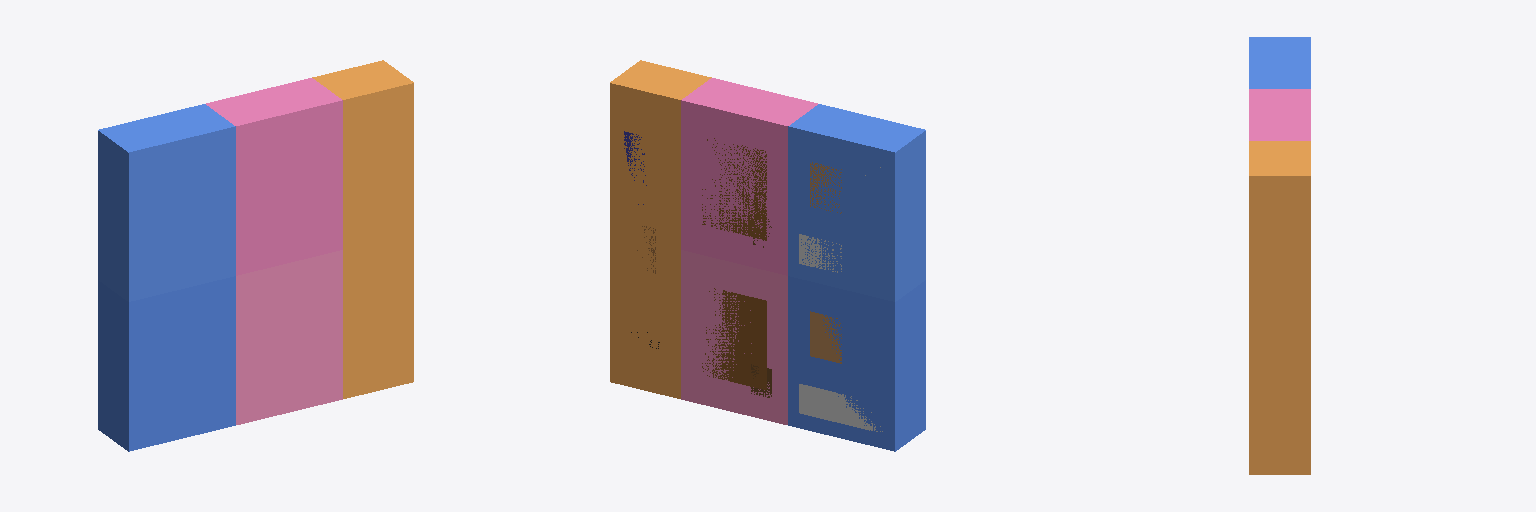
The picture shows the model from 3 angles: view 1: azimuth 30°, elevation 25°; view 2: azimuth 150°, elevation 25°; view 3: azimuth 270°, elevation 25°; orthographic projection.
Parts seen in each view (by area): view 1: 1, 4, 0, 3, 2; view 2: 4, 1, 0, 3, 2, furniture_6_bed, furniture_8_bed, furniture_0_kitchen_counter, furniture_2_dining_table, furniture_3_kitchen_counter; view 3: 4, 1, 3.
Part boxes in pixels (x1,y1,x2,y2): 1: (98, 104, 235, 301); 4: (312, 60, 413, 398); 0: (98, 276, 235, 451); 3: (206, 78, 342, 275); 2: (236, 250, 342, 424); 4: (610, 60, 711, 398); 1: (788, 104, 925, 301); 0: (788, 276, 925, 451); 3: (681, 78, 817, 275); 2: (681, 250, 787, 424); furniture_6_bed: (702, 288, 766, 389); furniture_8_bed: (702, 138, 766, 240); furniture_0_kitchen_counter: (799, 384, 882, 431); furniture_2_dining_table: (810, 311, 841, 363); furniture_3_kitchen_counter: (799, 234, 841, 272); 4: (1249, 141, 1310, 474); 1: (1249, 37, 1310, 88); 3: (1249, 89, 1310, 140).
Size of the model in its own units: 16 by 16 by 3.